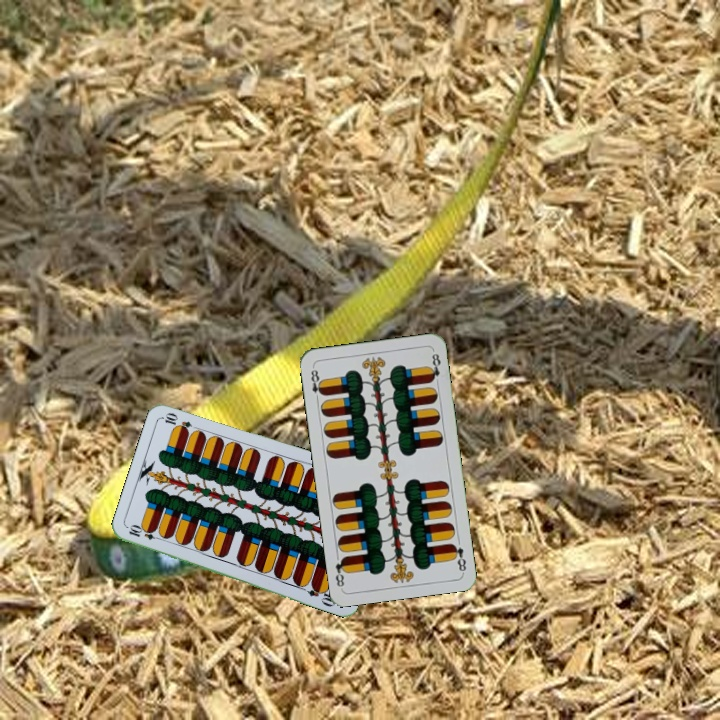E10: (125, 522, 165, 543)
E8: (307, 363, 326, 404), (448, 540, 468, 574)
